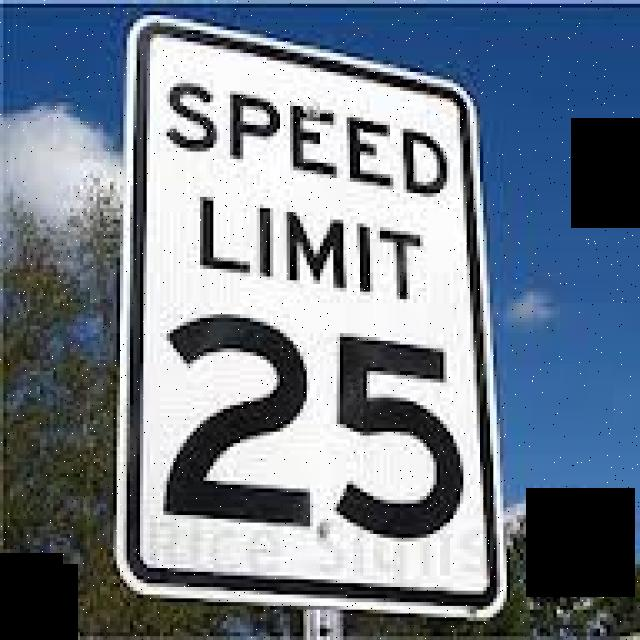regulatory: (109, 7, 522, 626)
